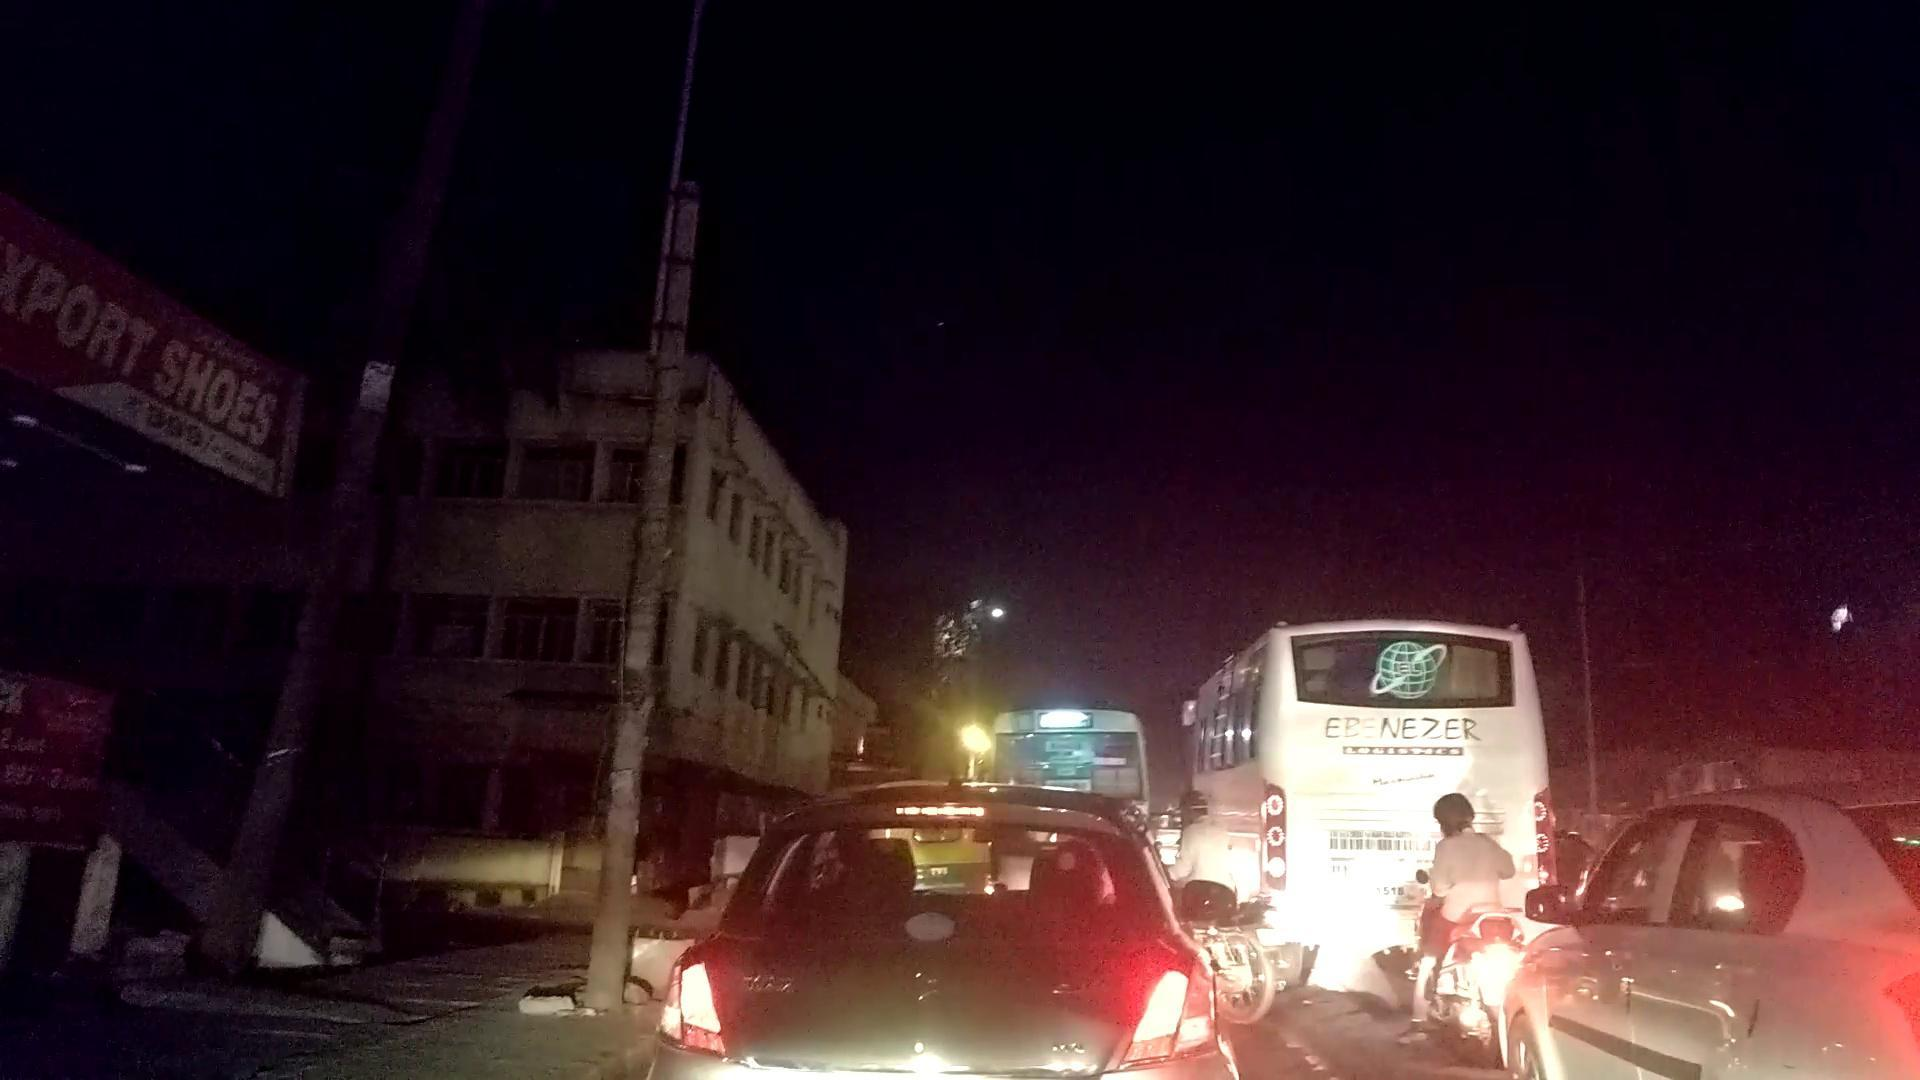on: (820, 522, 1311, 868)
